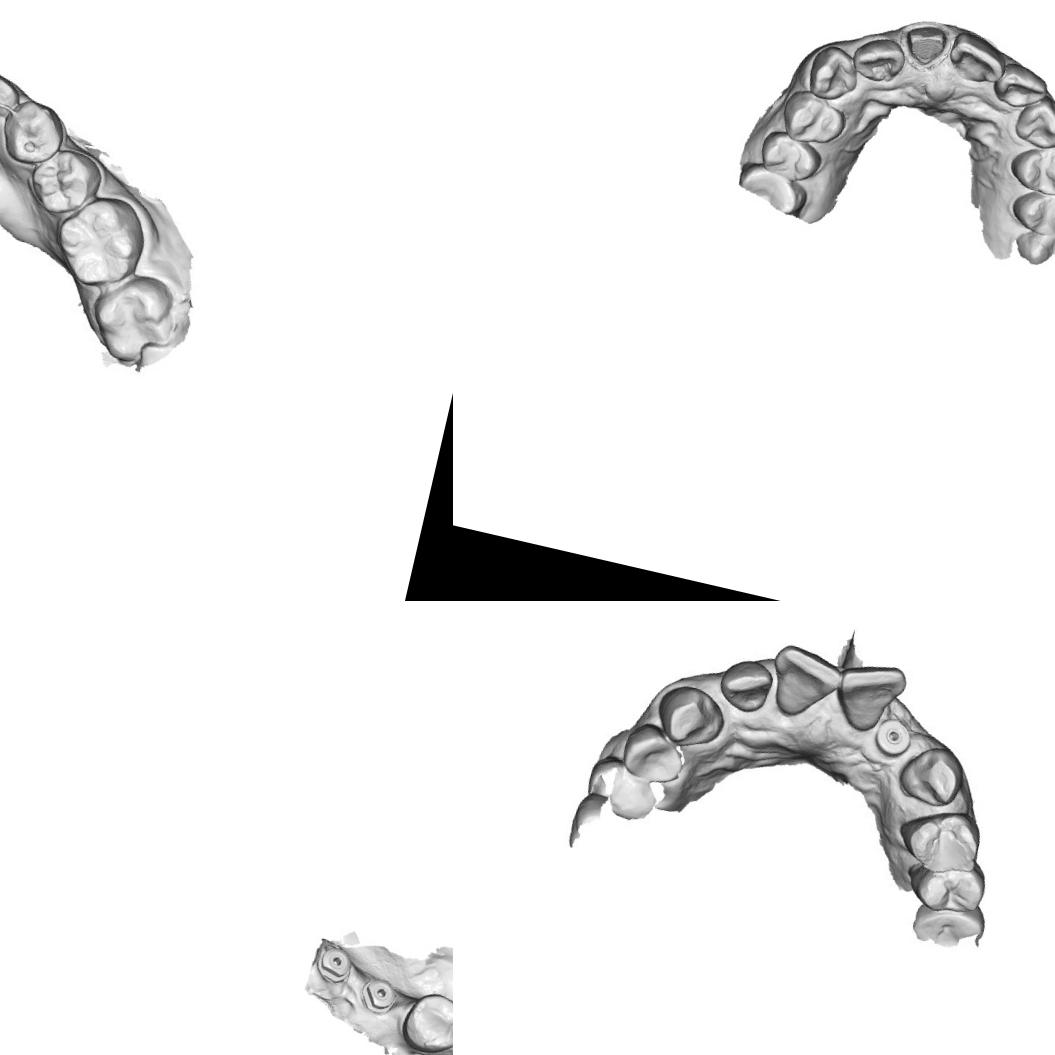canine: (654, 683, 732, 752), (898, 742, 966, 813), (802, 40, 866, 107), (1010, 89, 1055, 154), (0, 58, 20, 127)
crown: (898, 18, 954, 74)
implant: (872, 714, 916, 762), (356, 973, 402, 1018), (312, 941, 356, 988)
incisor: (769, 642, 848, 724), (833, 656, 906, 736), (942, 27, 1012, 89), (989, 57, 1054, 115), (846, 30, 910, 88), (722, 656, 776, 716)
molar: (47, 190, 154, 298), (81, 268, 184, 372), (732, 158, 813, 218), (1011, 212, 1055, 272)
premolar: (19, 141, 104, 225), (898, 806, 984, 880), (0, 94, 72, 171), (774, 85, 853, 152), (752, 126, 829, 188), (619, 722, 689, 788), (395, 985, 453, 1055), (916, 863, 986, 920), (1004, 135, 1055, 200), (1005, 182, 1055, 242)
